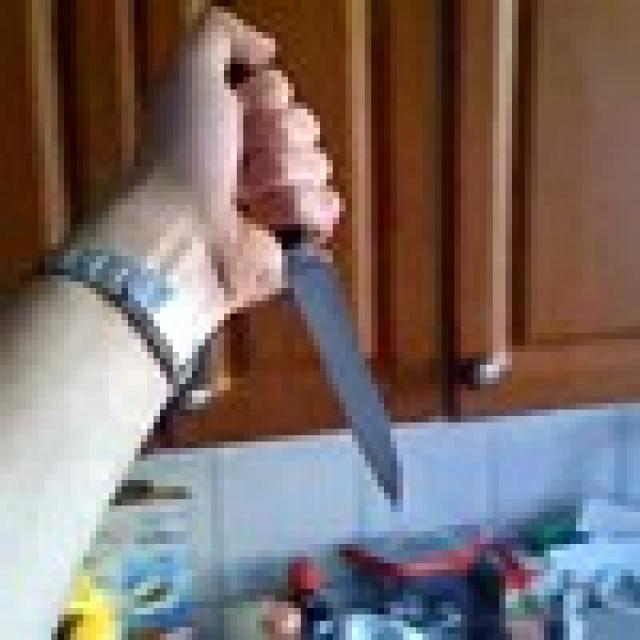knife: (224, 51, 403, 506)
